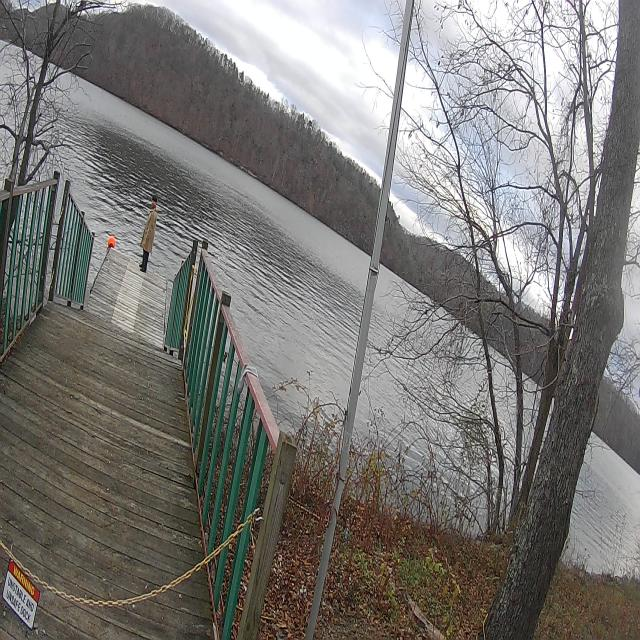Buoy: (106, 232, 117, 252)
